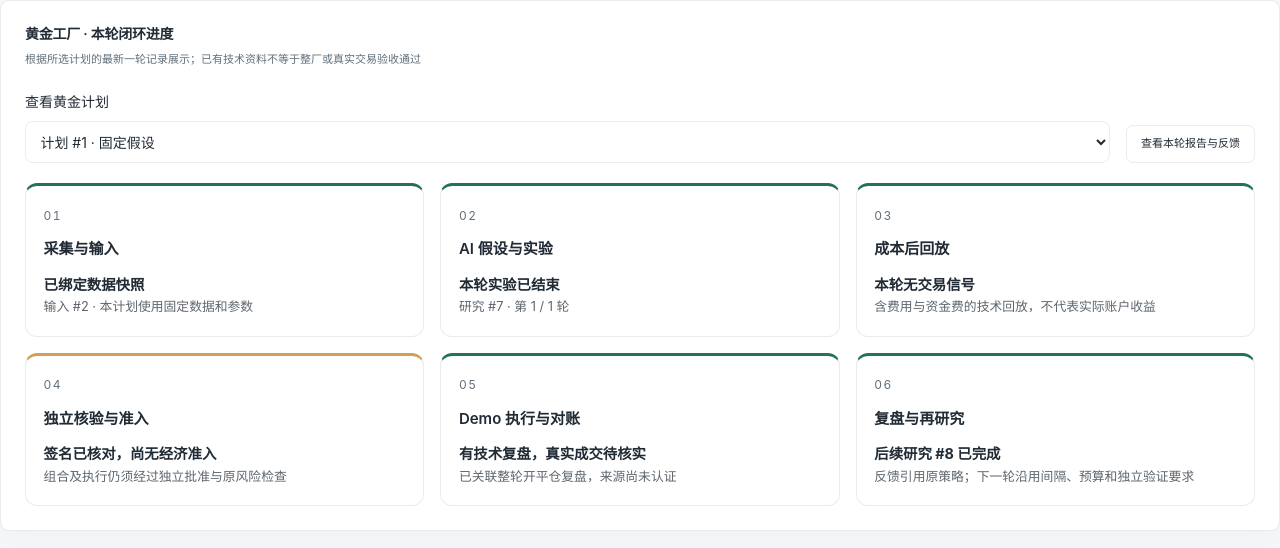
Test: does not borrow a different campaign result or infer completion from a reservation
Step 1. Select "计划 #2 · 固定假设" in the dropdown labelled "查看黄金计划" → (568, 142), box [25, 121, 1110, 163]
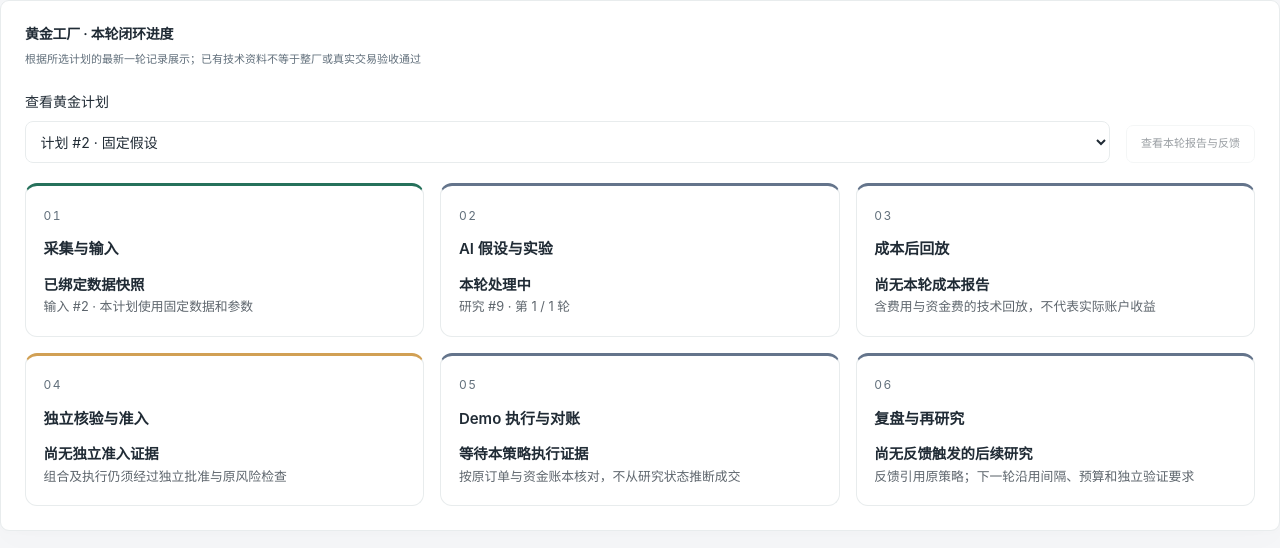
Now the text "本轮处理中" is shown, box [459, 276, 531, 292]
Now the text "尚无本轮成本报告" is shown, box [874, 276, 989, 292]
Now the text "后续研究 #8 已完成" is gone
